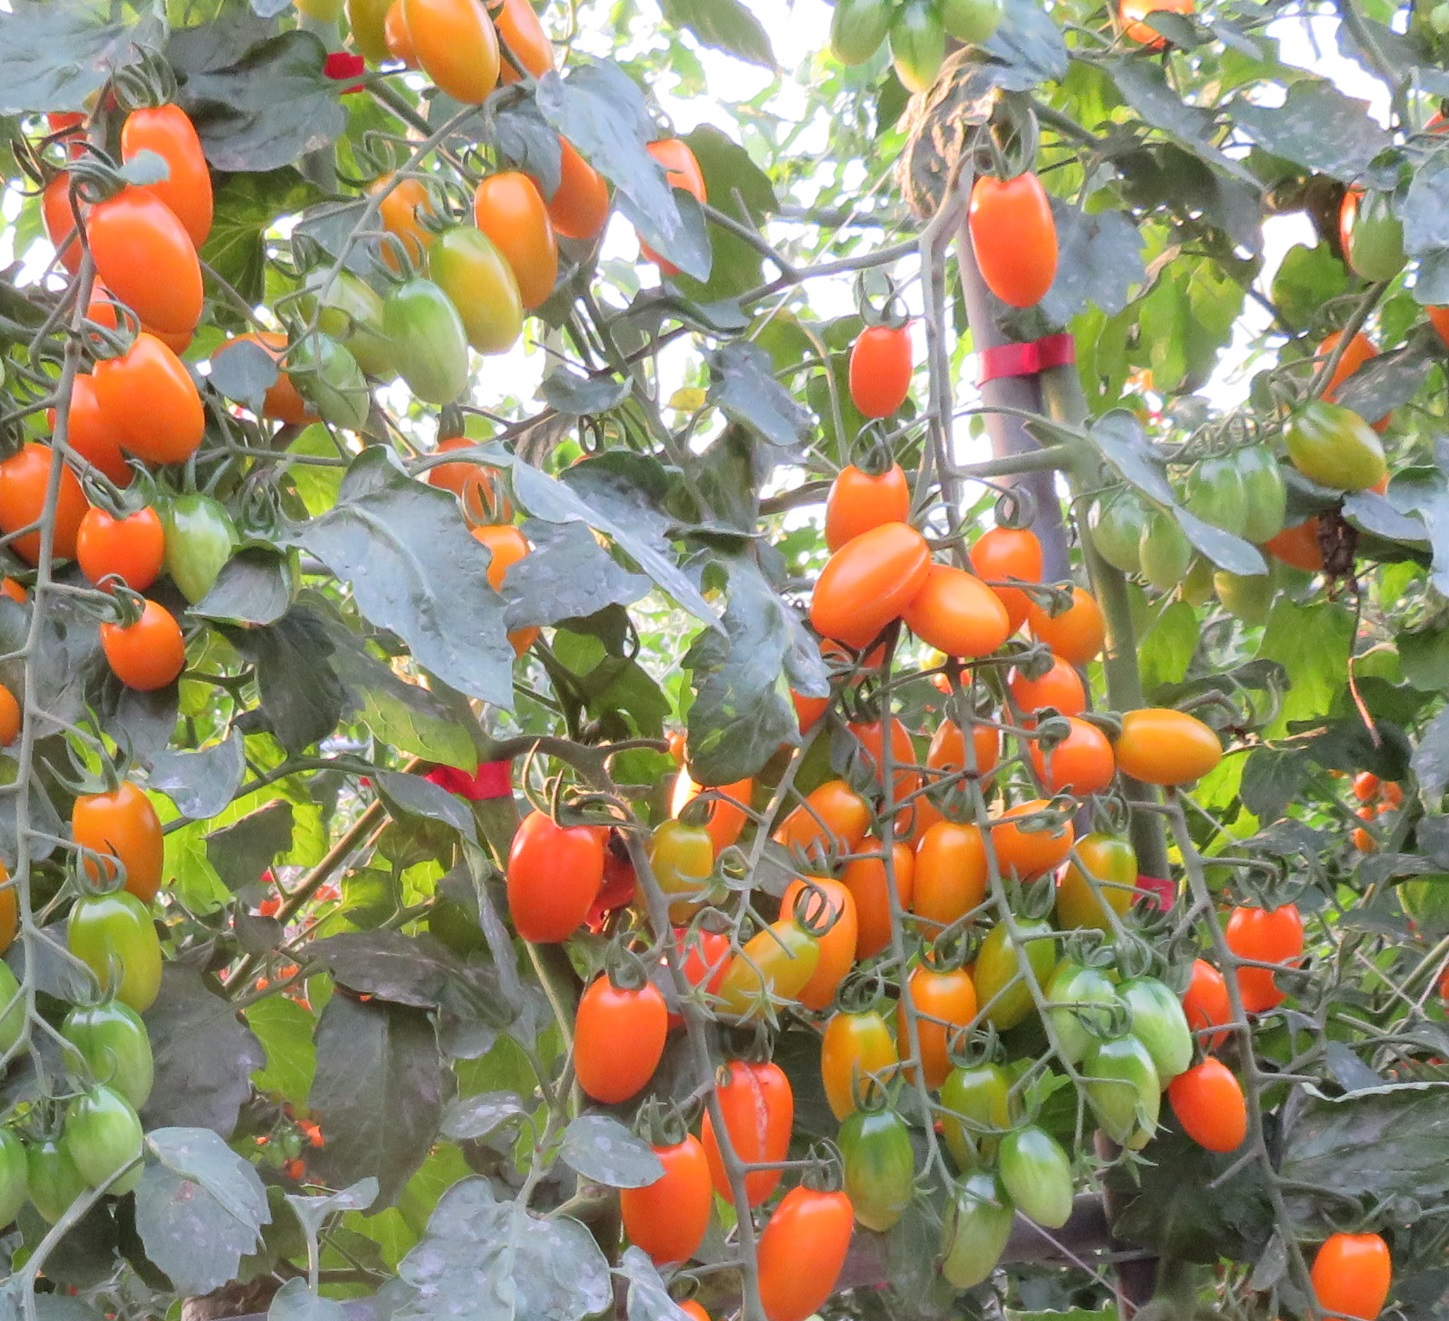green: (381, 275, 480, 411), (1274, 402, 1402, 495), (61, 889, 165, 1001), (974, 913, 1055, 1042), (831, 1108, 913, 1230), (1083, 1035, 1157, 1157), (158, 486, 240, 597), (63, 1089, 144, 1196), (1003, 1130, 1089, 1231), (287, 331, 372, 432), (939, 1178, 1014, 1293), (1125, 972, 1199, 1086), (1065, 831, 1142, 932), (66, 1004, 162, 1083), (944, 1070, 1014, 1172), (1137, 507, 1192, 596), (1192, 457, 1247, 541), (1084, 484, 1137, 570), (1255, 445, 1281, 549)
orange: (83, 192, 213, 336), (613, 1109, 713, 1281), (507, 786, 615, 944), (80, 329, 206, 459), (576, 953, 671, 1114), (750, 1185, 857, 1321), (809, 527, 929, 645), (959, 172, 1062, 308), (401, 1, 507, 109), (480, 167, 559, 307), (3, 442, 90, 568), (726, 1055, 799, 1204), (1107, 704, 1245, 781), (784, 872, 860, 1011), (66, 781, 165, 882), (815, 453, 921, 546), (674, 748, 754, 866), (1309, 1226, 1404, 1320), (913, 567, 1008, 659), (1173, 1061, 1261, 1154), (665, 915, 733, 1030), (96, 597, 186, 683), (913, 815, 979, 926), (909, 946, 974, 1059), (76, 486, 151, 582), (1032, 715, 1109, 807), (971, 503, 1043, 596), (843, 322, 909, 418), (1234, 898, 1306, 985), (791, 778, 877, 850), (35, 174, 90, 283), (865, 829, 918, 937), (490, 1, 555, 85), (985, 801, 1069, 864), (1314, 331, 1385, 402), (133, 114, 199, 183), (1011, 645, 1075, 714), (1036, 582, 1111, 638), (1118, 1, 1198, 53), (468, 524, 531, 582), (1351, 772, 1380, 807), (1354, 825, 1380, 860), (1383, 781, 1402, 805)
